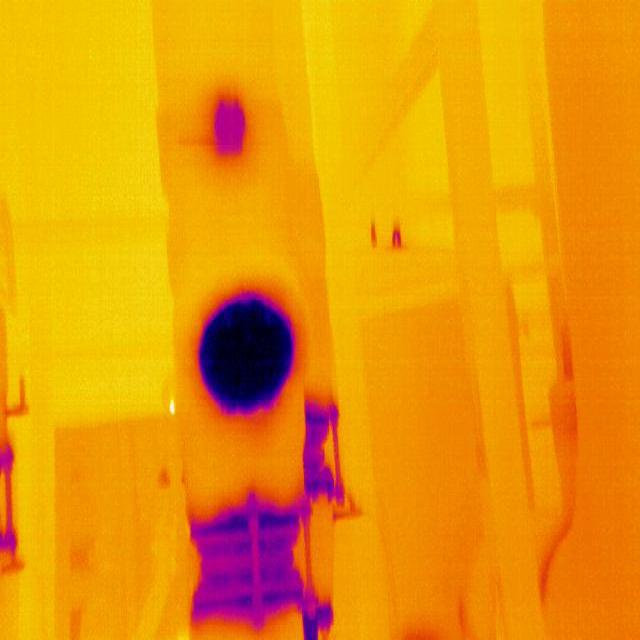leakage: (206, 84, 254, 174)
